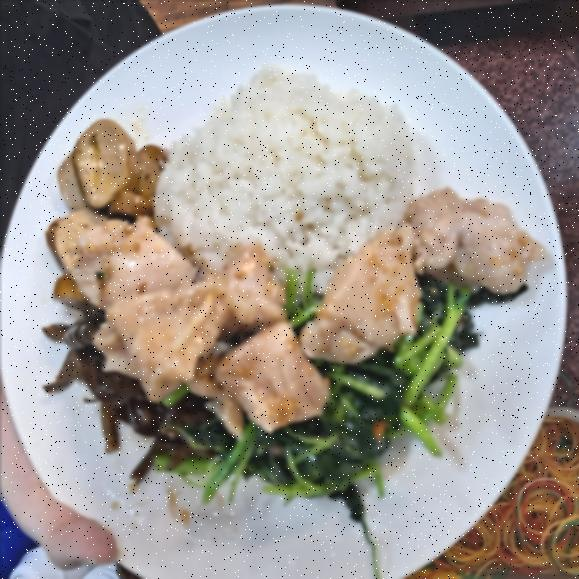plate: (5, 5, 566, 579)
scallion chicken: (57, 224, 538, 380)
side dish: (238, 344, 452, 502), (42, 342, 193, 482), (58, 125, 155, 228)
white rice: (152, 60, 416, 282)
